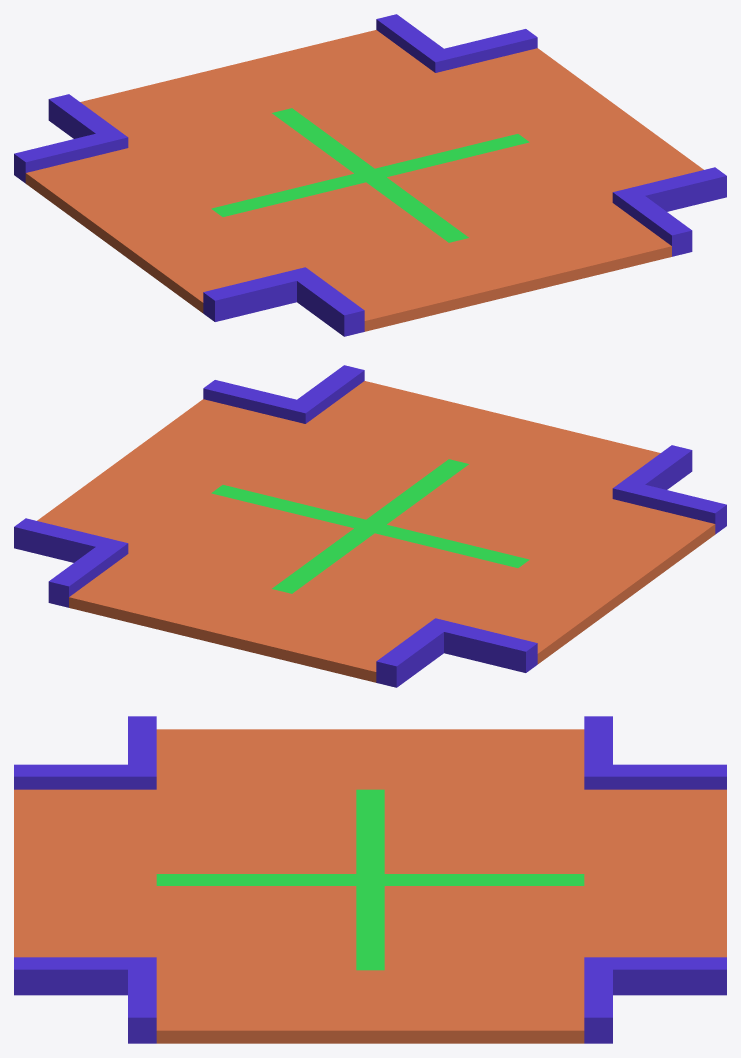
File: asphalt_road_crossroads.fbx
3 views of the same model, one above another, from view 1: azimuth 30°, elevation 25°; view 2: azimuth 150°, elevation 25°; view 3: azimuth 270°, elevation 25° (orthographic). The views are drawn at different scales.
Visible parts, largest first — view 1: asphalt_road_crossroads; view 2: asphalt_road_crossroads; view 3: asphalt_road_crossroads.
Boxes of the visible parts, x1=… form: asphalt_road_crossroads: x1=14, y1=14, x2=726, y2=336; asphalt_road_crossroads: x1=14, y1=365, x2=726, y2=687; asphalt_road_crossroads: x1=14, y1=716, x2=726, y2=1043.
Size of the model in its own units: 500 by 20 by 500.
